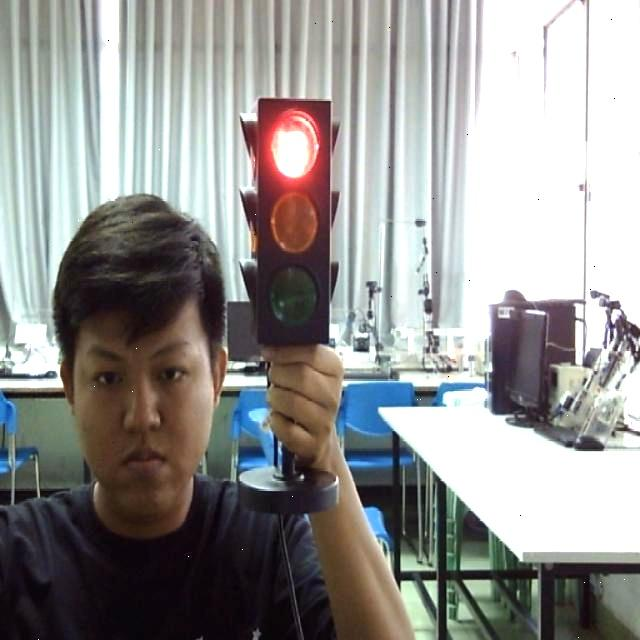Red: (213, 68, 373, 398)
